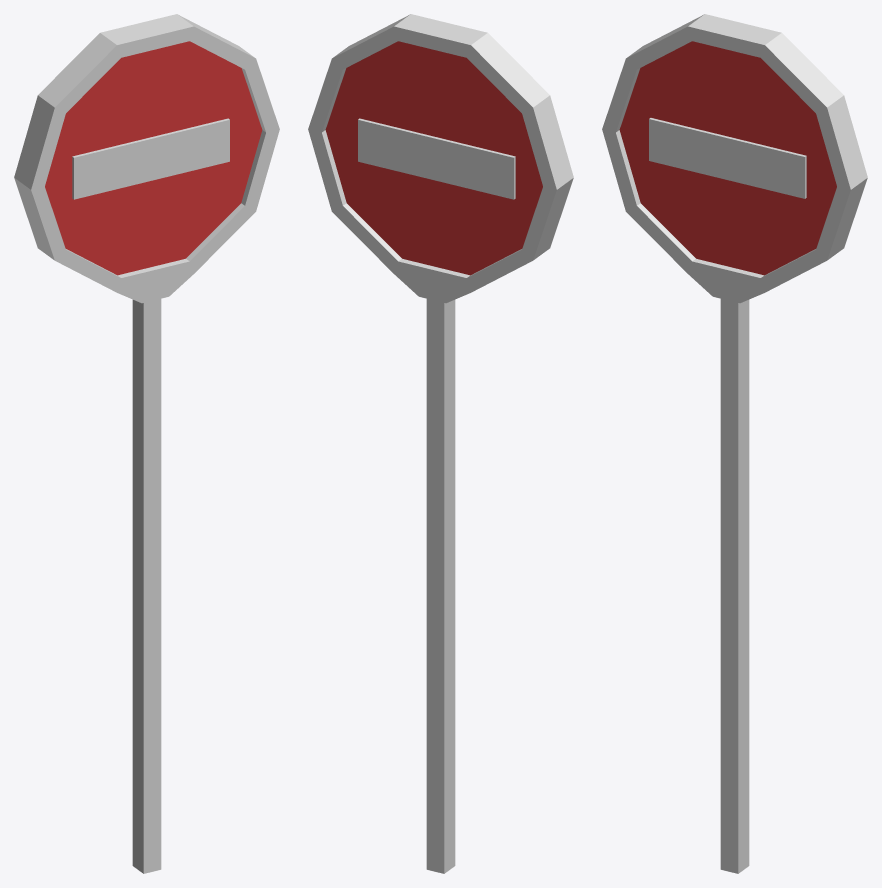
Rendered from 47 Sign_board_4.fbx.
3 renders of one model, left to right at view 1: azimuth 30°, elevation 25°; view 2: azimuth 150°, elevation 25°; view 3: azimuth 330°, elevation 25°, orthographic.
Parts seen in each view (by area): view 1: Working_sign; view 2: Working_sign; view 3: Working_sign.
Boxes of the visible parts, x1,y1,x2,y2 form: Working_sign: (14,14,279,873); Working_sign: (308,14,573,873); Working_sign: (602,14,867,873).
Bounding box in the file's own units: 19.05 × 61.34 × 2.26.
